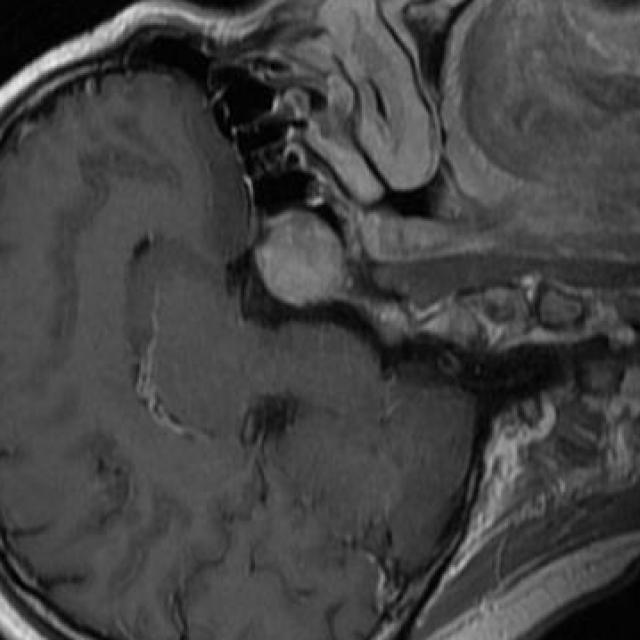pituitary: (255, 212, 344, 307)
